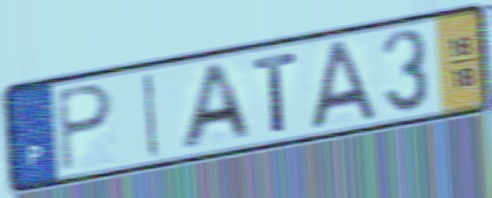3: (379, 28, 432, 116)
A: (177, 61, 257, 154), (308, 37, 380, 134)
I: (142, 69, 161, 162)
P: (54, 81, 117, 175)
T: (250, 48, 301, 136)
